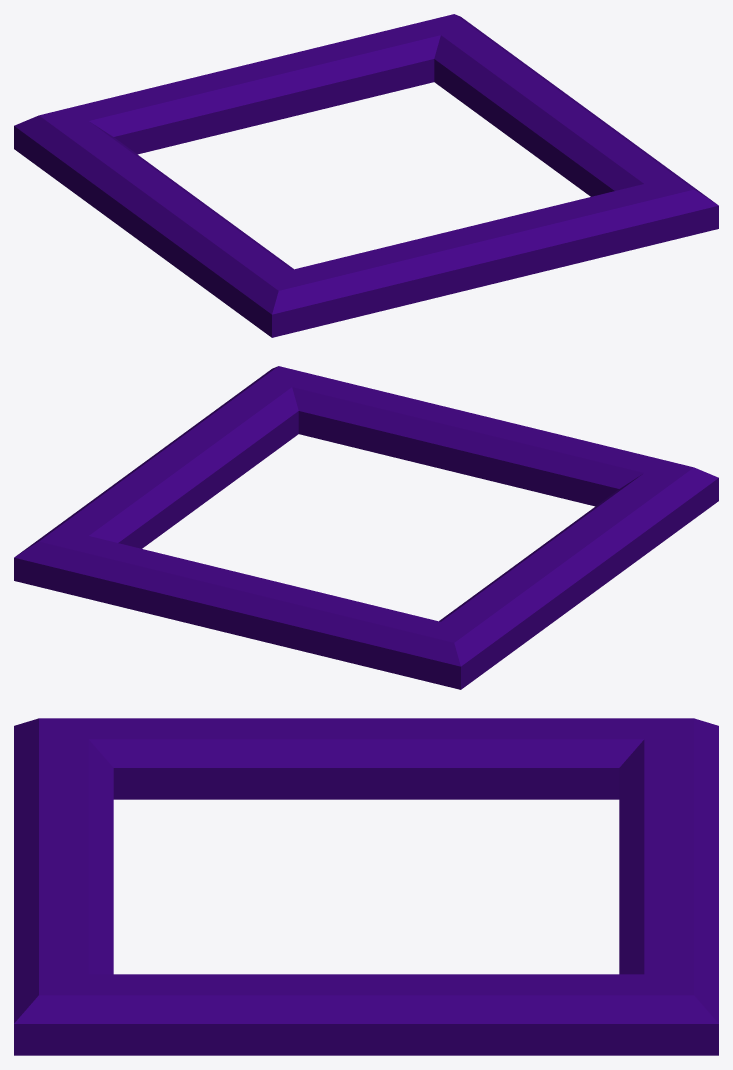
Rendered from wall_deco10.fbx.
3 views of the same model, one above another, from view 1: azimuth 30°, elevation 25°; view 2: azimuth 150°, elevation 25°; view 3: azimuth 270°, elevation 25° (orthographic). The views are drawn at different scales.
Visible parts, largest first — view 1: wall_deco10; view 2: wall_deco10; view 3: wall_deco10.
Part boxes in pixels (bbox=[...]): wall_deco10: bbox=[14, 14, 718, 337]; wall_deco10: bbox=[14, 366, 718, 689]; wall_deco10: bbox=[14, 718, 718, 1055].
Size of the model in its own units: 249 by 19.43 by 249.
